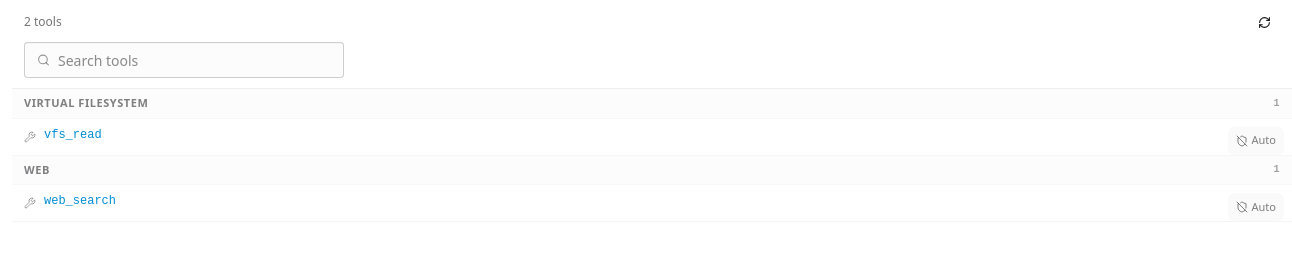
it: ToolPanel › loads, groups, and expands tools
Expected: the text "2 tools" is shown, left=24, top=14, right=62, bottom=30
Expected: the text "Web" is shown, left=24, top=162, right=50, bottom=178
Click the button "web_search" at (80, 201), box left=12, top=185, right=1224, bottom=217
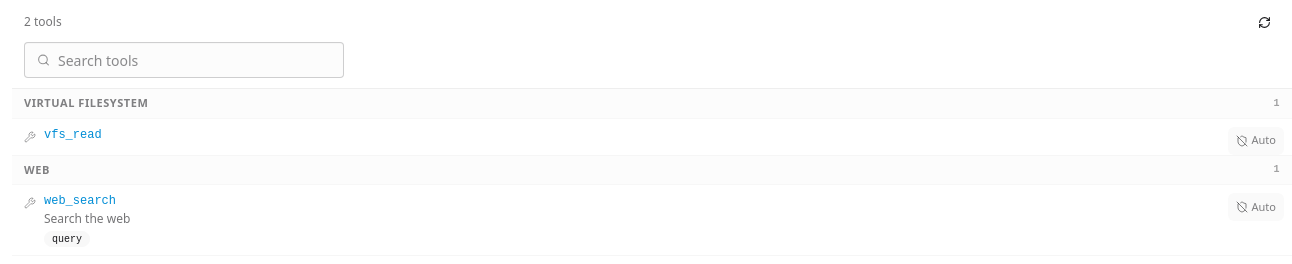
Now the text "Search the web" is shown, box left=44, top=210, right=130, bottom=227
Now the text "query" is shown, box left=44, top=231, right=90, bottom=247
